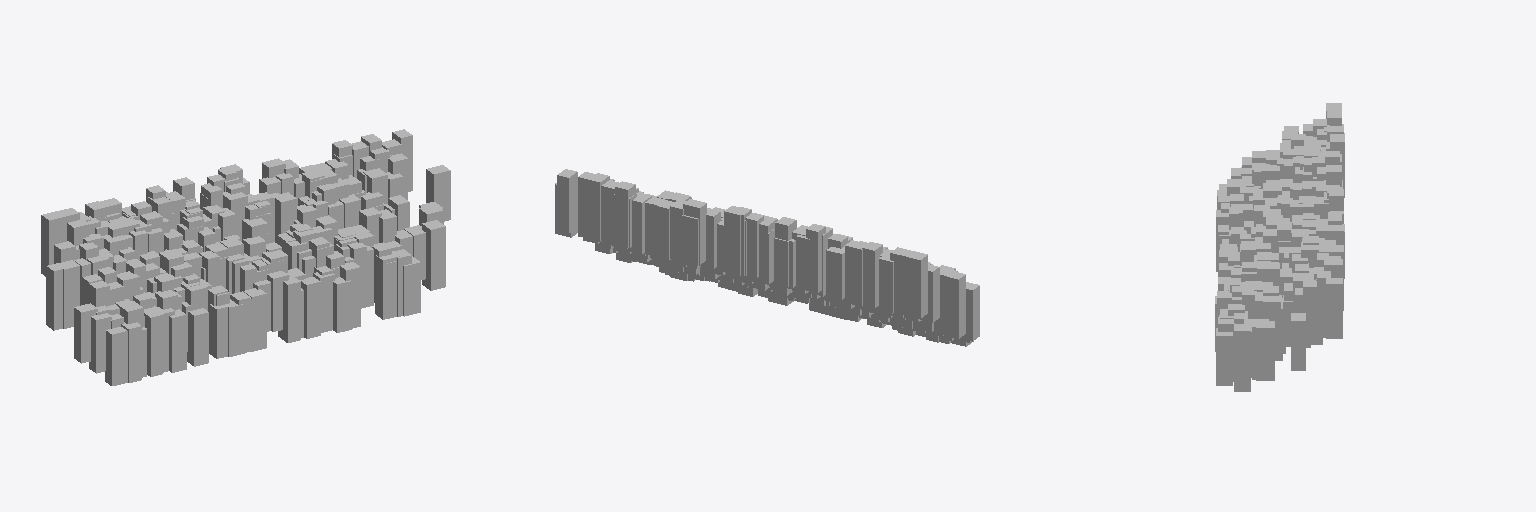
File: Greg BG centerstage.obj
3 views of the same model, side by side, from view 1: azimuth 30°, elevation 25°; view 2: azimuth 150°, elevation 25°; view 3: azimuth 270°, elevation 25° (orthographic).
Parts seen in each view (by area): view 1: Part187, Part100, Part116, Part110, Part214, Part71, Part74, Part118, Part249, Part66, Part240, Part185 (+20 smaller); view 2: Part240, Part155, Part214, Part157, Part222, Part223, Part144, Part143, Part154, Part156, Part130, Part235 (+16 smaller); view 3: Part187, Part38, Part155, Part112, Part249, Part241, Part131.
Boxes of the visible parts, x1,y1,x2,y2 form: Part187: [422, 220, 445, 290]; Part100: [105, 327, 127, 385]; Part116: [278, 274, 300, 342]; Part110: [187, 308, 208, 366]; Part214: [46, 263, 64, 330]; Part71: [144, 309, 162, 376]; Part74: [169, 309, 186, 372]; Part118: [300, 277, 320, 338]; Part249: [426, 165, 450, 221]; Part66: [74, 303, 97, 363]; Part240: [41, 211, 63, 276]; Part185: [59, 260, 79, 328]; Part240: [905, 251, 927, 318]; Part155: [557, 169, 577, 232]; Part214: [947, 271, 965, 338]; Part157: [724, 206, 744, 275]; Part222: [845, 240, 865, 305]; Part223: [862, 242, 882, 308]; Part144: [615, 181, 635, 247]; Part143: [826, 246, 844, 299]; Part154: [588, 173, 609, 240]; Part156: [680, 215, 698, 265]; Part130: [806, 224, 825, 292]; Part235: [879, 251, 893, 312]; Part187: [1234, 324, 1250, 391]; Part38: [1256, 321, 1274, 380]; Part155: [1326, 278, 1342, 338]; Part112: [1216, 328, 1232, 385]; Part249: [1291, 313, 1305, 370]; Part241: [1303, 279, 1322, 344]; Part131: [1317, 271, 1330, 337].
Bounding box in the file's own units: 550 × 172 × 154.